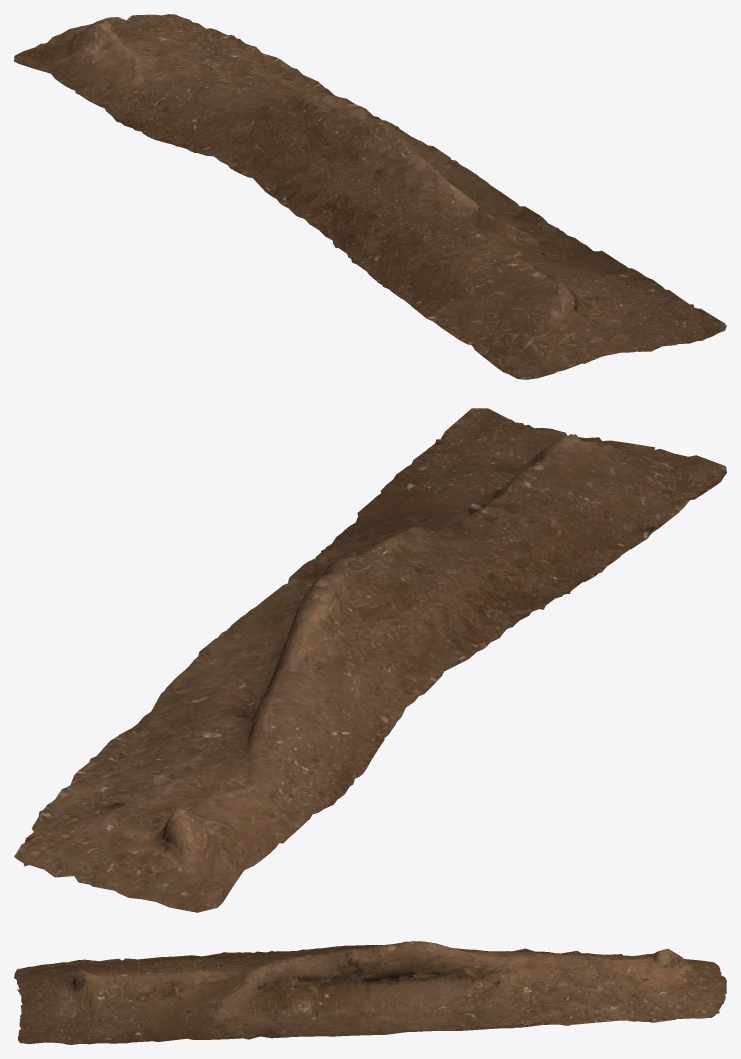
Rendered from single_root.glb.
The picture shows the model from 3 angles, top to bottom: view 1: azimuth 30°, elevation 25°; view 2: azimuth 150°, elevation 25°; view 3: azimuth 270°, elevation 25°; orthographic projection. The views are drawn at different scales.
Size of the model in its own units: 0.555 by 0.1776 by 1.84.
Materials: 1 (1 with a texture image).
